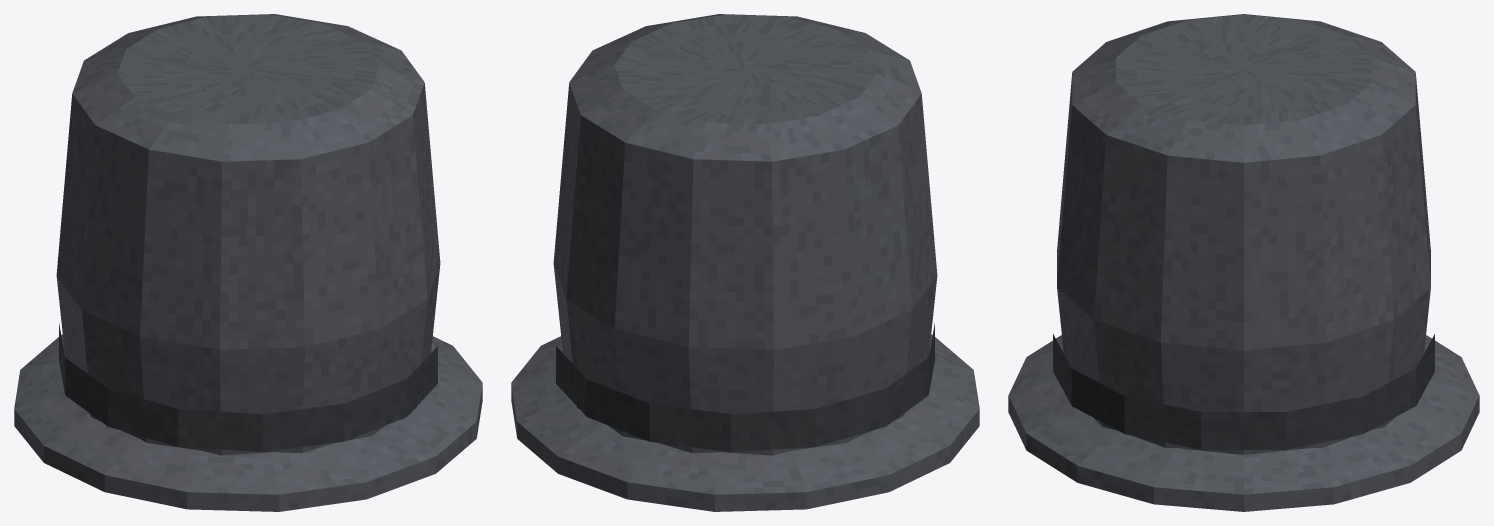
Rendered from tophat.glb.
The picture shows the model from 3 angles, left to right: view 1: azimuth 30°, elevation 25°; view 2: azimuth 150°, elevation 25°; view 3: azimuth 270°, elevation 25°; orthographic projection.
Visible parts, largest first — view 1: block_hat crown, block_shaped hat brim, block_hatband; view 2: block_hat crown, block_shaped hat brim, block_hatband; view 3: block_hat crown, block_shaped hat brim, block_hatband.
Part boxes in pixels (left/top/right/bottom): block_hat crown: left=56, top=14, right=440, bottom=455; block_shaped hat brim: left=14, top=334, right=482, bottom=511; block_hatband: left=59, top=323, right=437, bottom=452; block_hat crown: left=553, top=14, right=937, bottom=455; block_shaped hat brim: left=511, top=334, right=979, bottom=511; block_hatband: left=556, top=323, right=934, bottom=452; block_hat crown: left=1057, top=14, right=1430, bottom=454; block_shaped hat brim: left=1008, top=335, right=1479, bottom=511; block_hatband: left=1053, top=334, right=1434, bottom=449.
Bounding box in the file's own units: 0.294 × 0.2398 × 0.294.
1 material, 1 textured.
